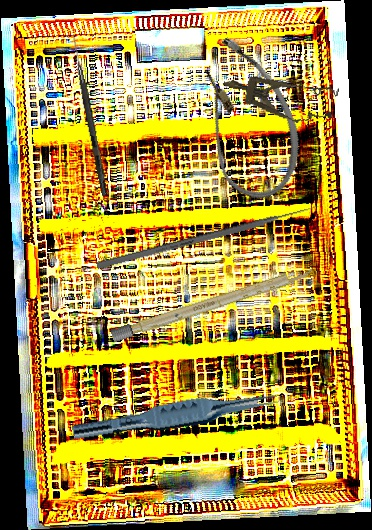Cannula: (170, 26, 320, 211)
Hook Surgical: (68, 33, 110, 197)
Pusher: (95, 202, 323, 270)
Scalpel Handle: (110, 264, 315, 343)
Speculum: (218, 61, 340, 131)
Tissue Forceps: (71, 380, 281, 453)
